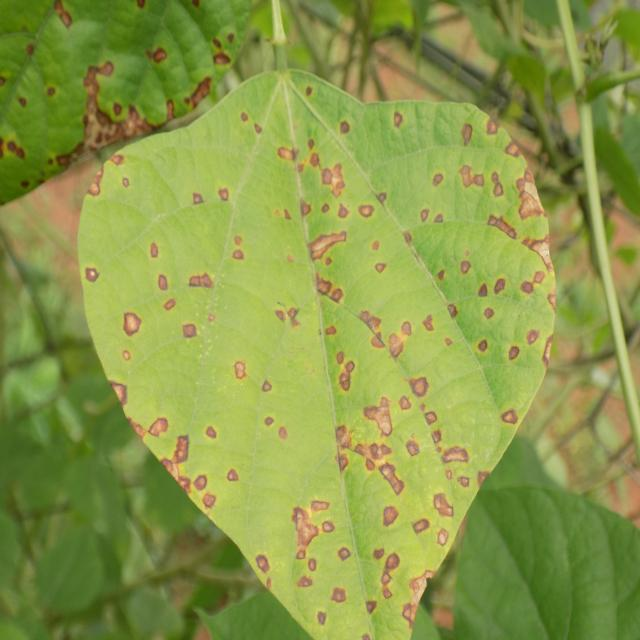Dolicos bean_cercospora leaf spot: (80, 68, 554, 640)
